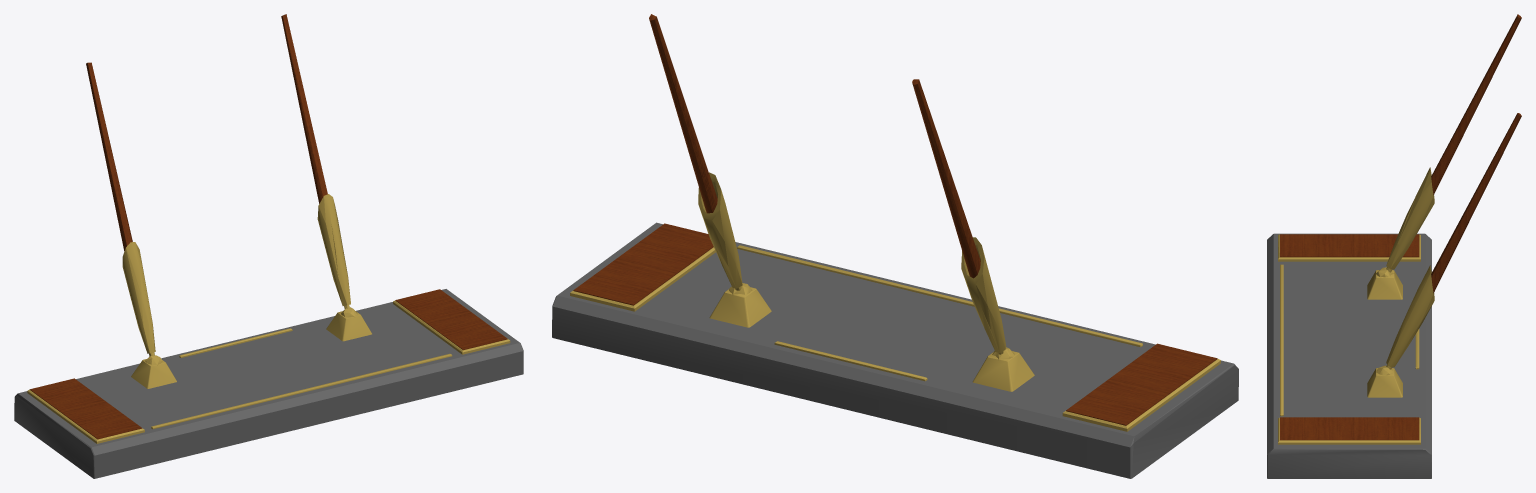
The model's file is Estante De Plumas.glb.
3 views of the same model, side by side, from view 1: azimuth 30°, elevation 25°; view 2: azimuth 150°, elevation 25°; view 3: azimuth 270°, elevation 25° (orthographic). The views are drawn at different scales.
Parts seen in each view (by area): view 1: 010cc67c-ebff-4788-a493-4f656df9d0c9, 226a8eb0-08c9-46ae-8c21-370dd95392a8, 9f68dc30-6997-4e79-b75d-1e1505d44152, 9248cf57-5c64-40ca-bf8c-e73d91b21121, b0211d36-78e7-4ed1-9a08-7ecbac263c96, 757e1b0d-88bf-4cfa-9fa8-5712e33a0449, 7142cc65-faf6-490b-bfc9-fca46371ae0a, f9453bb4-1d05-4831-87c5-1438773be201, 29f068d2-f683-4601-bb10-5a40607eaa62, fee8aa18-31f2-498c-8261-205dc19ea141, 8b5e4a20-bac5-47de-acbc-1d978b89b625, 8a98c901-0109-493a-966e-835b57557391; view 2: 010cc67c-ebff-4788-a493-4f656df9d0c9, 9f68dc30-6997-4e79-b75d-1e1505d44152, 226a8eb0-08c9-46ae-8c21-370dd95392a8, 757e1b0d-88bf-4cfa-9fa8-5712e33a0449, 7142cc65-faf6-490b-bfc9-fca46371ae0a, 9248cf57-5c64-40ca-bf8c-e73d91b21121, b0211d36-78e7-4ed1-9a08-7ecbac263c96, f9453bb4-1d05-4831-87c5-1438773be201, 29f068d2-f683-4601-bb10-5a40607eaa62, fee8aa18-31f2-498c-8261-205dc19ea141, 8a98c901-0109-493a-966e-835b57557391, 8b5e4a20-bac5-47de-acbc-1d978b89b625 (+1 smaller); view 3: 010cc67c-ebff-4788-a493-4f656df9d0c9, 226a8eb0-08c9-46ae-8c21-370dd95392a8, 9f68dc30-6997-4e79-b75d-1e1505d44152, 7142cc65-faf6-490b-bfc9-fca46371ae0a, 757e1b0d-88bf-4cfa-9fa8-5712e33a0449, 9248cf57-5c64-40ca-bf8c-e73d91b21121, b0211d36-78e7-4ed1-9a08-7ecbac263c96, 29f068d2-f683-4601-bb10-5a40607eaa62, fee8aa18-31f2-498c-8261-205dc19ea141, 8b5e4a20-bac5-47de-acbc-1d978b89b625, 8a98c901-0109-493a-966e-835b57557391, f9453bb4-1d05-4831-87c5-1438773be201.
Part boxes in pixels (bbox=[...]): 010cc67c-ebff-4788-a493-4f656df9d0c9: bbox=[14, 289, 523, 478]; 226a8eb0-08c9-46ae-8c21-370dd95392a8: bbox=[395, 289, 507, 350]; 9f68dc30-6997-4e79-b75d-1e1505d44152: bbox=[29, 378, 142, 439]; 9248cf57-5c64-40ca-bf8c-e73d91b21121: bbox=[317, 194, 350, 305]; b0211d36-78e7-4ed1-9a08-7ecbac263c96: bbox=[122, 242, 155, 353]; 757e1b0d-88bf-4cfa-9fa8-5712e33a0449: bbox=[86, 62, 132, 250]; 7142cc65-faf6-490b-bfc9-fca46371ae0a: bbox=[281, 14, 327, 203]; f9453bb4-1d05-4831-87c5-1438773be201: bbox=[151, 353, 452, 429]; 29f068d2-f683-4601-bb10-5a40607eaa62: bbox=[131, 359, 176, 388]; fee8aa18-31f2-498c-8261-205dc19ea141: bbox=[326, 311, 371, 341]; 8b5e4a20-bac5-47de-acbc-1d978b89b625: bbox=[393, 300, 510, 354]; 8a98c901-0109-493a-966e-835b57557391: bbox=[27, 389, 144, 443]; 010cc67c-ebff-4788-a493-4f656df9d0c9: bbox=[552, 222, 1238, 478]; 9f68dc30-6997-4e79-b75d-1e1505d44152: bbox=[1066, 343, 1217, 425]; 226a8eb0-08c9-46ae-8c21-370dd95392a8: bbox=[573, 223, 713, 305]; 757e1b0d-88bf-4cfa-9fa8-5712e33a0449: bbox=[912, 79, 980, 278]; 7142cc65-faf6-490b-bfc9-fca46371ae0a: bbox=[649, 14, 717, 213]; 9248cf57-5c64-40ca-bf8c-e73d91b21121: bbox=[698, 172, 742, 288]; b0211d36-78e7-4ed1-9a08-7ecbac263c96: bbox=[961, 237, 1006, 352]; f9453bb4-1d05-4831-87c5-1438773be201: bbox=[737, 245, 1142, 346]; 29f068d2-f683-4601-bb10-5a40607eaa62: bbox=[972, 351, 1034, 391]; fee8aa18-31f2-498c-8261-205dc19ea141: bbox=[709, 287, 771, 327]; 8a98c901-0109-493a-966e-835b57557391: bbox=[1062, 359, 1220, 431]; 8b5e4a20-bac5-47de-acbc-1d978b89b625: bbox=[570, 247, 715, 311]; 010cc67c-ebff-4788-a493-4f656df9d0c9: bbox=[1267, 233, 1431, 478]; 226a8eb0-08c9-46ae-8c21-370dd95392a8: bbox=[1280, 417, 1419, 440]; 9f68dc30-6997-4e79-b75d-1e1505d44152: bbox=[1280, 234, 1419, 257]; 7142cc65-faf6-490b-bfc9-fca46371ae0a: bbox=[1431, 113, 1521, 293]; 757e1b0d-88bf-4cfa-9fa8-5712e33a0449: bbox=[1431, 14, 1521, 194]; 9248cf57-5c64-40ca-bf8c-e73d91b21121: bbox=[1386, 265, 1434, 367]; b0211d36-78e7-4ed1-9a08-7ecbac263c96: bbox=[1386, 167, 1434, 269]; 29f068d2-f683-4601-bb10-5a40607eaa62: bbox=[1367, 270, 1402, 299]; fee8aa18-31f2-498c-8261-205dc19ea141: bbox=[1367, 368, 1402, 397]; 8b5e4a20-bac5-47de-acbc-1d978b89b625: bbox=[1278, 417, 1420, 444]; 8a98c901-0109-493a-966e-835b57557391: bbox=[1278, 234, 1420, 261]; f9453bb4-1d05-4831-87c5-1438773be201: bbox=[1280, 264, 1283, 416].
Size of the model in its own units: 0.3854 by 0.256 by 0.1925.
4 materials, 2 textured.
